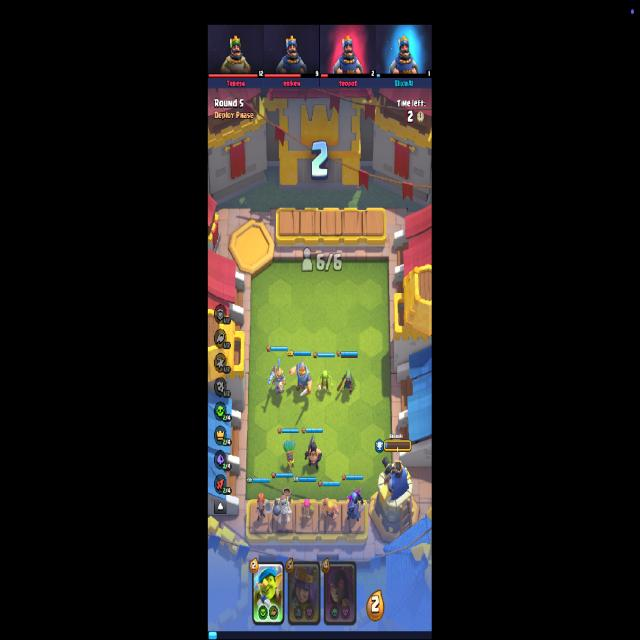archer: (300, 499, 314, 521)
bandit: (337, 369, 356, 397)
barbarian: (317, 496, 340, 529)
card_archer_queen: (287, 560, 321, 626)
card_spear_goblin: (252, 561, 284, 627)
card_witch: (323, 560, 356, 626)
dart_goblin: (280, 438, 296, 476)
executioner: (304, 435, 320, 474)
giant_skeleton: (273, 488, 293, 526)
goblin: (316, 370, 334, 397)
knight: (290, 363, 312, 403)
pekka: (346, 487, 365, 524)
prince: (269, 355, 286, 398)
valkyrie: (254, 492, 271, 524)
